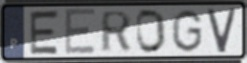E: (63, 7, 97, 58), (28, 9, 61, 57)
G: (170, 8, 204, 54)
O: (135, 7, 168, 55)
R: (99, 10, 134, 54)
V: (205, 6, 239, 55)
